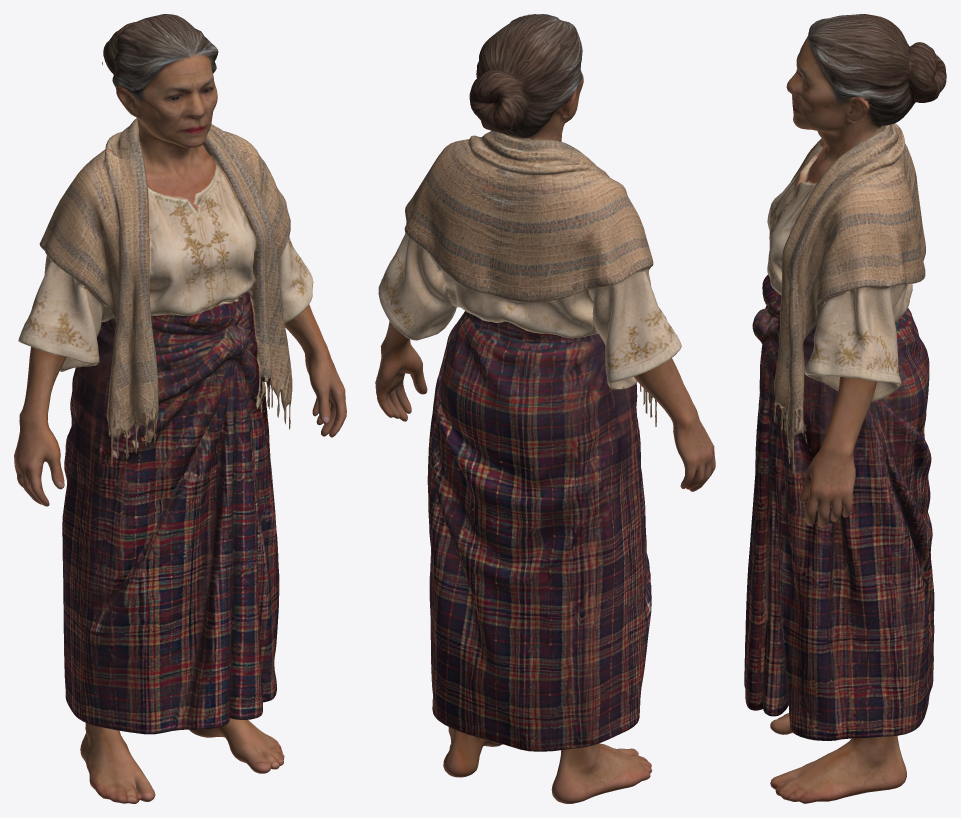
The model's file is hilot.glb.
The picture shows the model from 3 angles, left to right: view 1: azimuth 30°, elevation 25°; view 2: azimuth 150°, elevation 25°; view 3: azimuth 270°, elevation 25°; orthographic projection. The views are drawn at different scales.
Parts seen in each view (by area): view 1: hilot; view 2: hilot; view 3: hilot.
Boxes of the visible parts, box(x1,y1,x2,y2) form: hilot: box(14, 14, 346, 803); hilot: box(375, 14, 715, 803); hilot: box(744, 14, 946, 803).
Size of the model in its own units: 0.448 by 0.9777 by 0.2416.
1 material, 1 textured.
